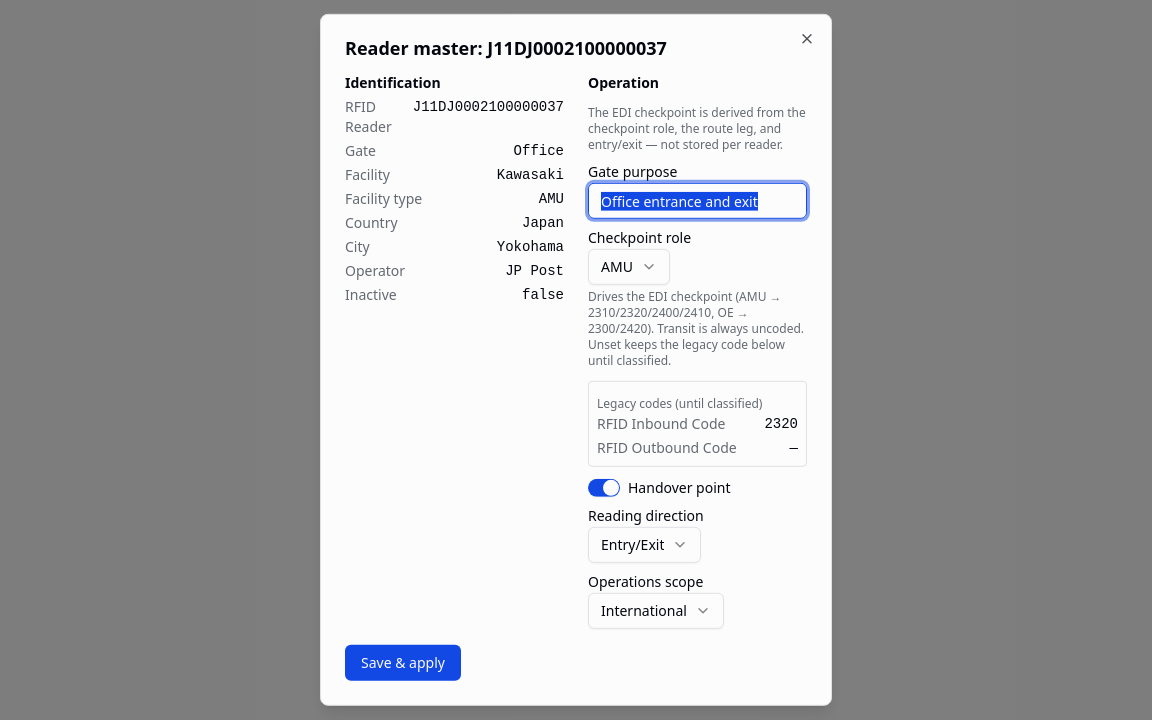
Test: ReaderEditorDialog › sends only the changed Operation field and reports applied
Replace the text in the field showing "Office entrance and exit" with "Main gate": (698, 201) [588,183,807,219]
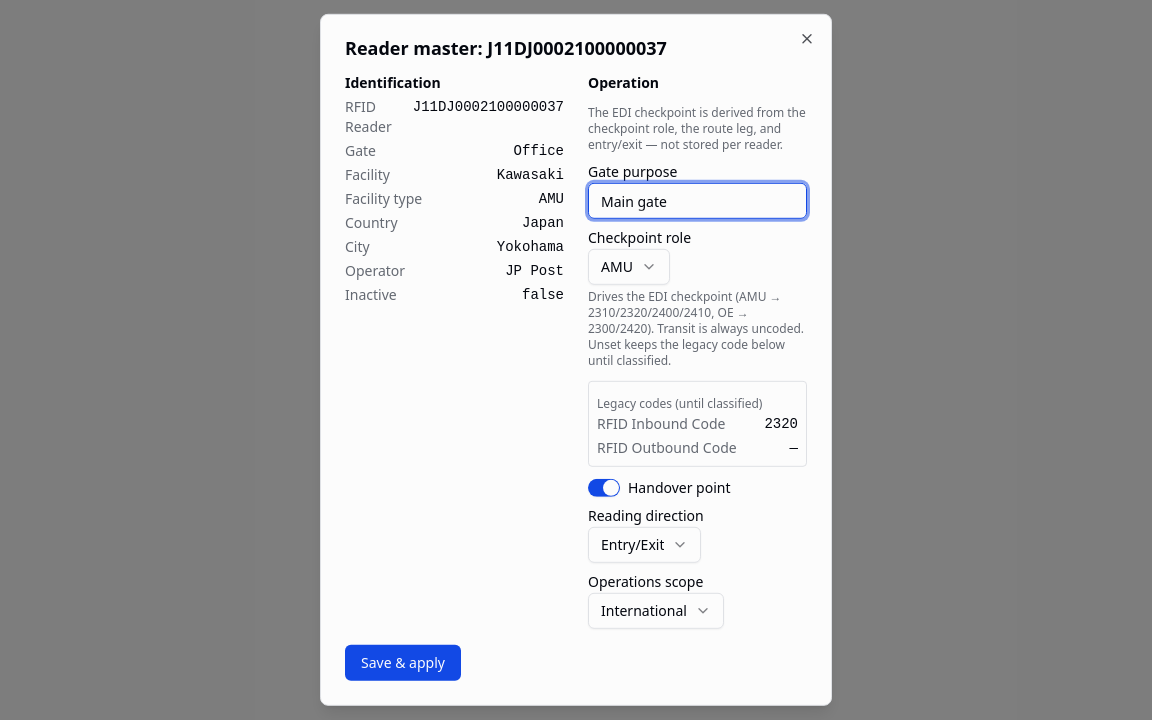
Click the button "Save & apply": click(403, 663) [345,645,461,681]
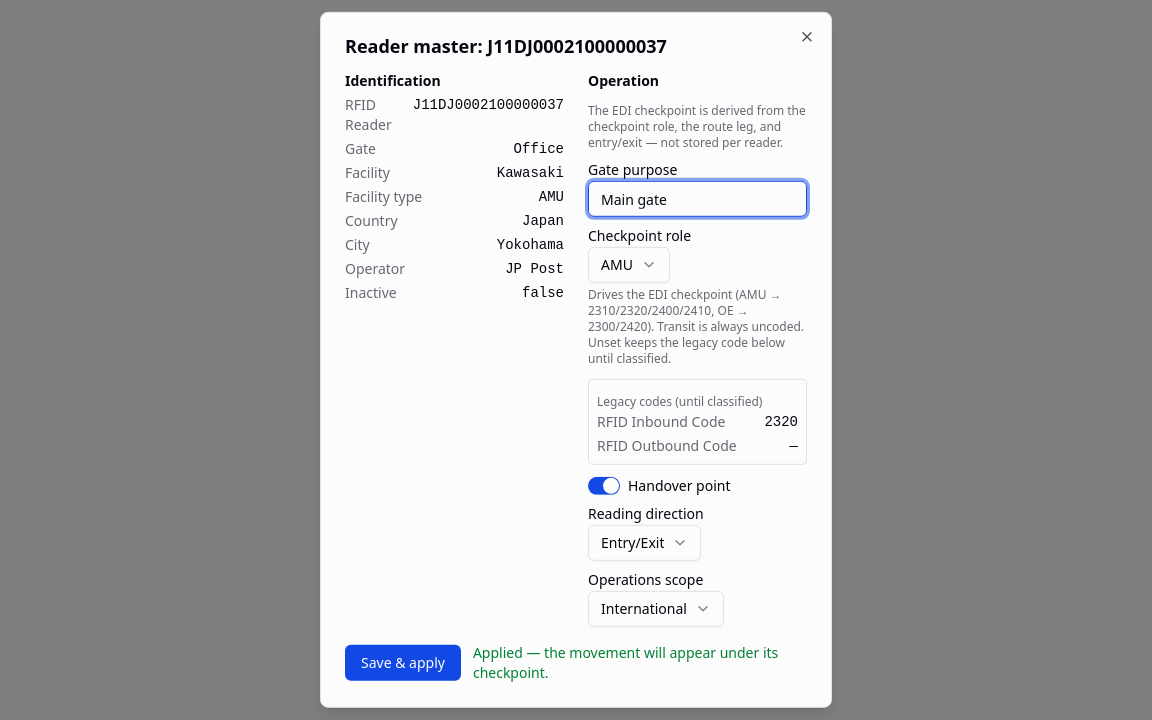
Expected: the text "J11DJ0002100000037" is shown, [413,97,564,113]
Now the text "Applied — the movement will appear under its checkpoint." is shown, box [473,643,807,683]
